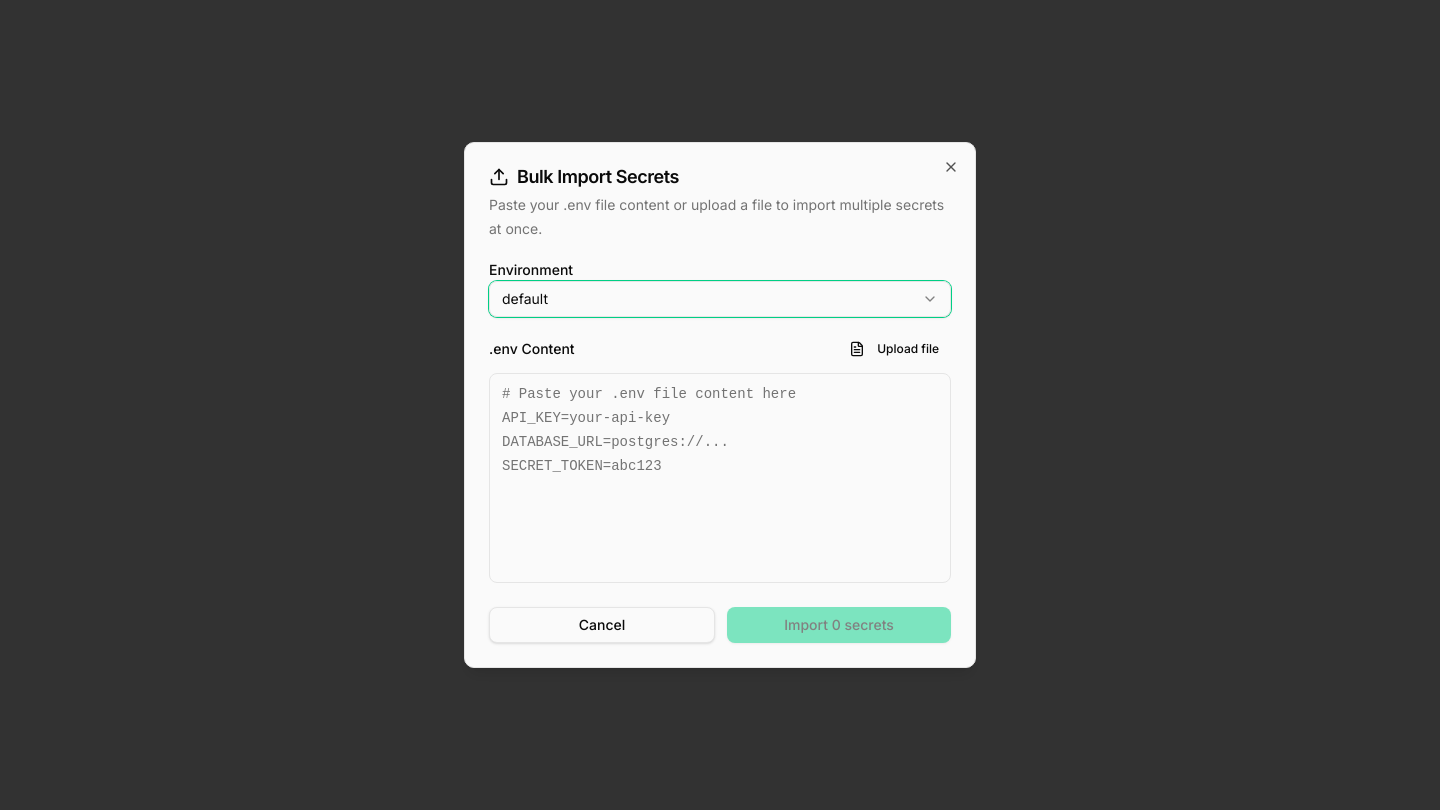
BulkImportModal › import submission › should show error on import failure
Type "API_KEY=value" into the text box with placeholder "Paste your .env file content" at (720, 478), box x1=489 y1=373 x2=951 y2=583
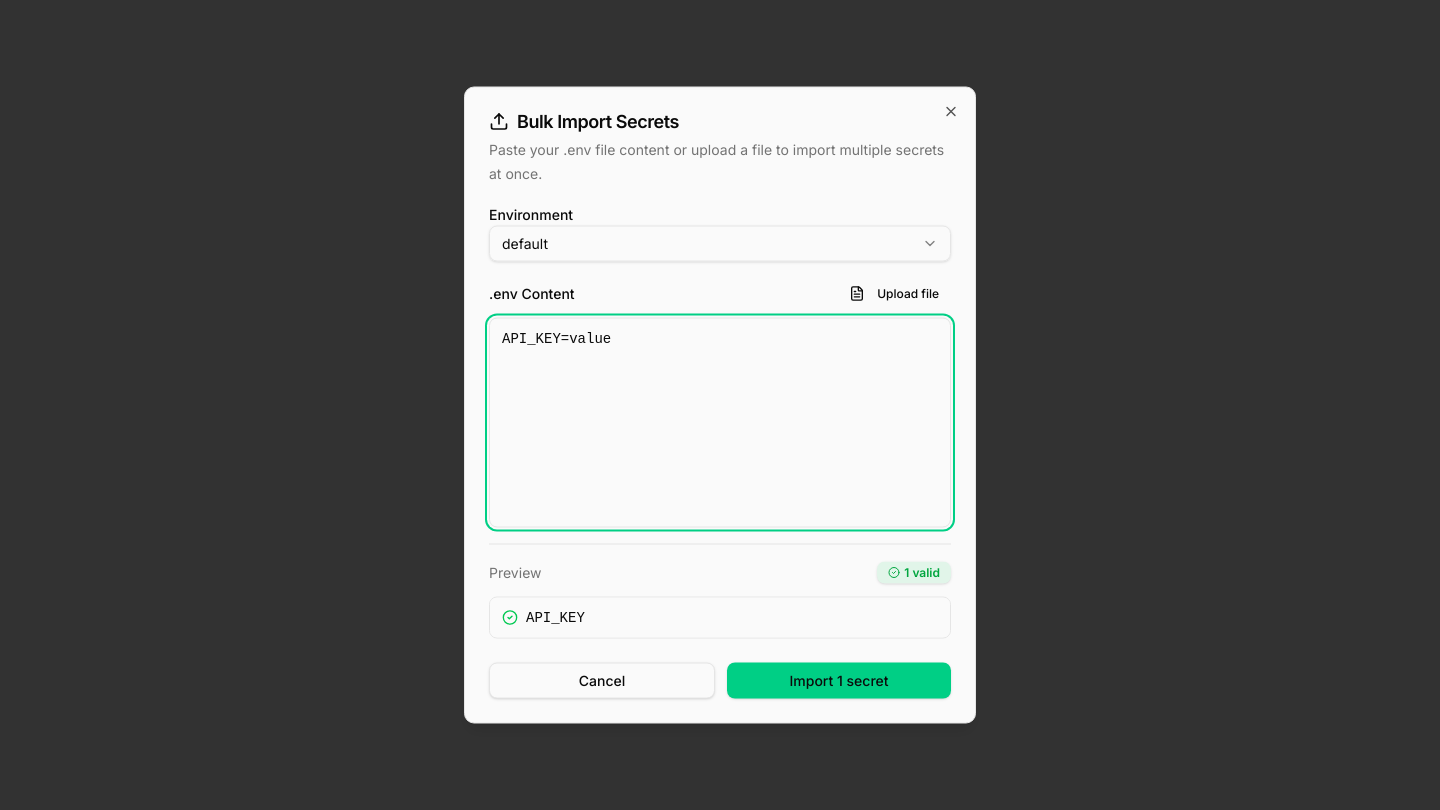
Result: the text "1 valid" is shown at x1=877 y1=562 x2=951 y2=584
Click the button "Import 1 secret" at (839, 680), box x1=727 y1=662 x2=951 y2=698
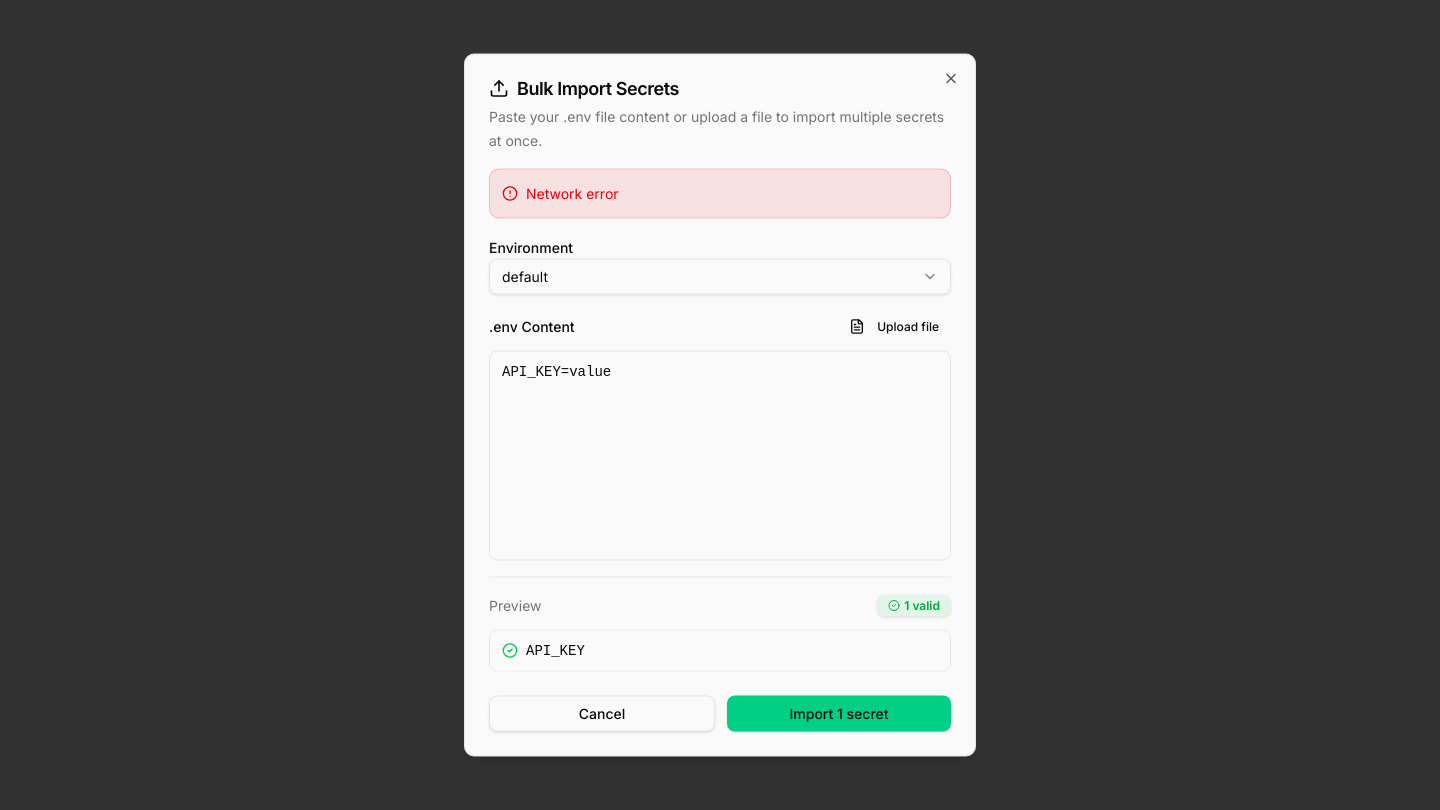
Result: the text "Network error" is shown at x1=489 y1=168 x2=951 y2=218
